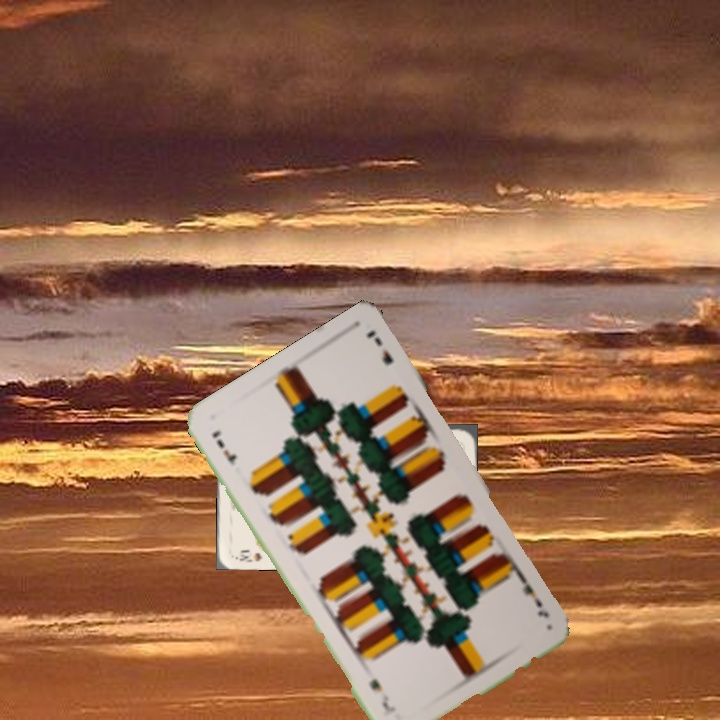E7: (515, 571, 552, 621), (208, 426, 239, 469)
S10: (231, 545, 264, 565)
